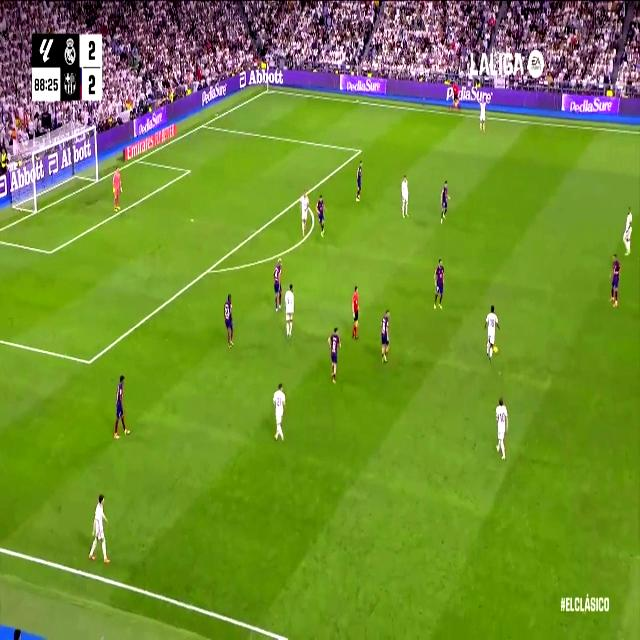bigarea_bottom_inner: (84, 350, 94, 374)
bigarea_top_inner: (357, 144, 363, 156)
bigarea_top_outter: (200, 119, 206, 130)
bottom_arc_area_intersection: (204, 261, 214, 279)
corner: (264, 85, 272, 95)
smallarea_top_inner: (186, 166, 191, 175)
top_arc_area_intersection: (298, 191, 304, 205)
